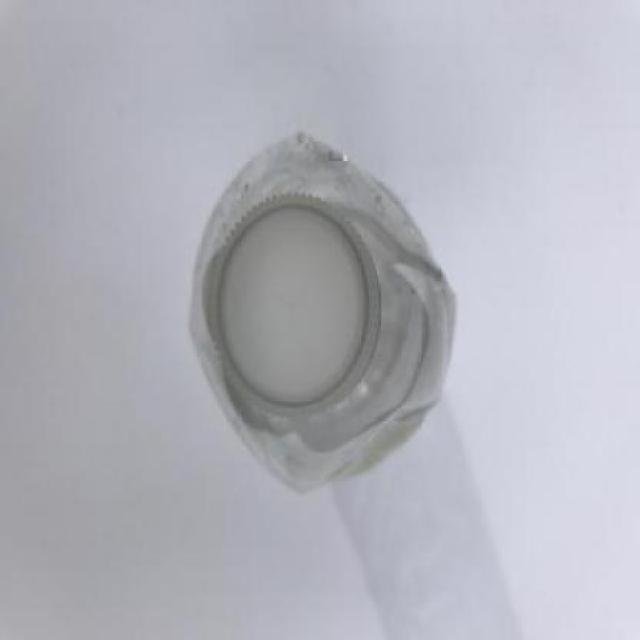PLASTIC: (190, 133, 458, 495), (202, 192, 383, 434)
